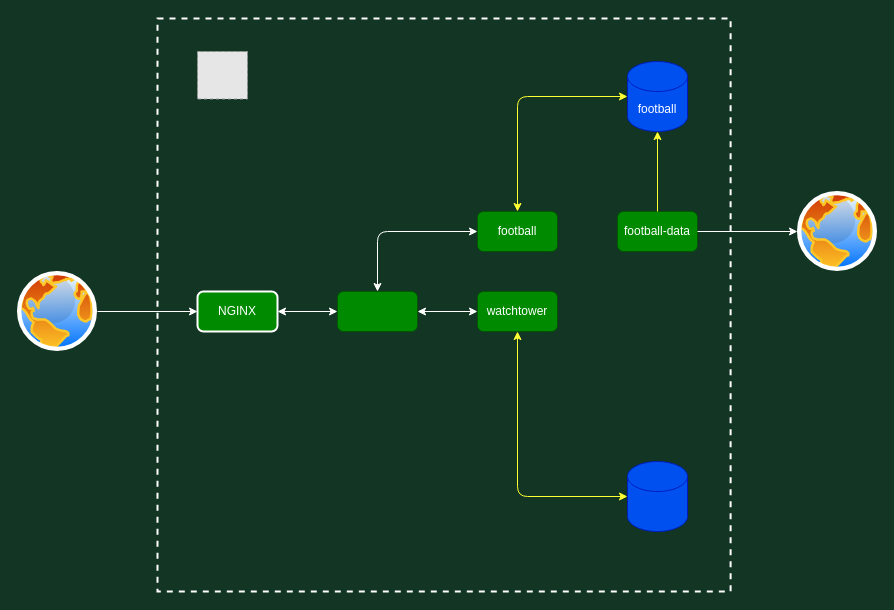
This 894x610 diagram has some shape labels left out. Grey dashed boxes stand in for pictures. The centre of each missing label's shape, as x and y in pixels:
frontend: the point at 377,311
user: the point at 657,496
